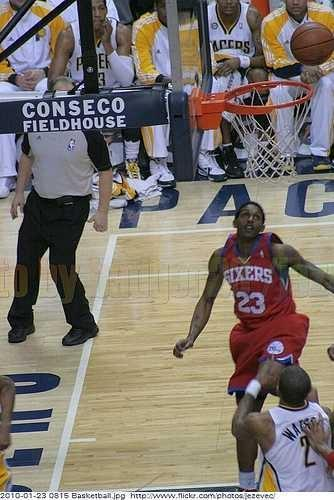ball: (289, 18, 334, 68)
human: (171, 197, 334, 491), (228, 353, 334, 491)
rim: (223, 79, 315, 185)
